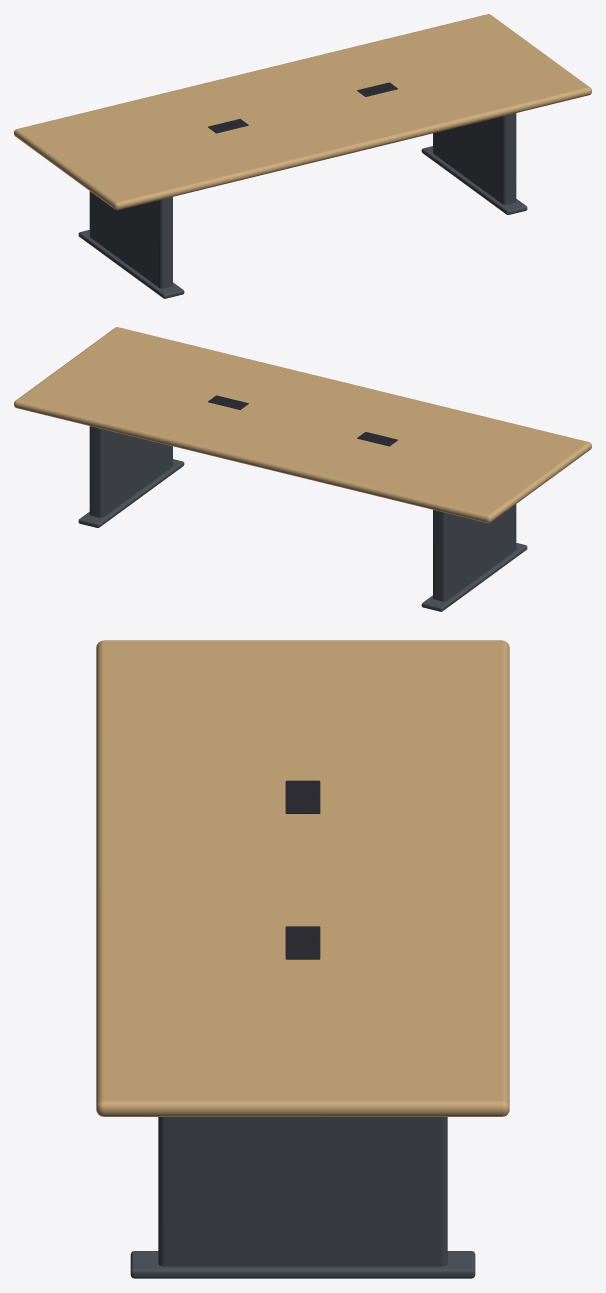
The model's file is table.glb.
3 views of the same model, one above another, from view 1: azimuth 30°, elevation 25°; view 2: azimuth 150°, elevation 25°; view 3: azimuth 270°, elevation 25° (orthographic). The views are drawn at different scales.
Parts seen in each view (by area): view 1: Cube, Cube.001, Cube.003; view 2: Cube, Cube.001, Cube.003; view 3: Cube, Cube.001, Cube.003.
Part boxes in pixels (<box>): Cube: <box>14,14,591,210</box>; Cube.001: <box>78,113,527,298</box>; Cube.003: <box>208,82,397,133</box>; Cube: <box>14,327,591,523</box>; Cube.001: <box>78,426,527,611</box>; Cube.003: <box>208,395,397,446</box>; Cube: <box>96,640,509,1116</box>; Cube.001: <box>130,1117,475,1278</box>; Cube.003: <box>285,780,320,959</box>.
Size of the model in its own units: 3.2 by 0.745 by 1.2.
